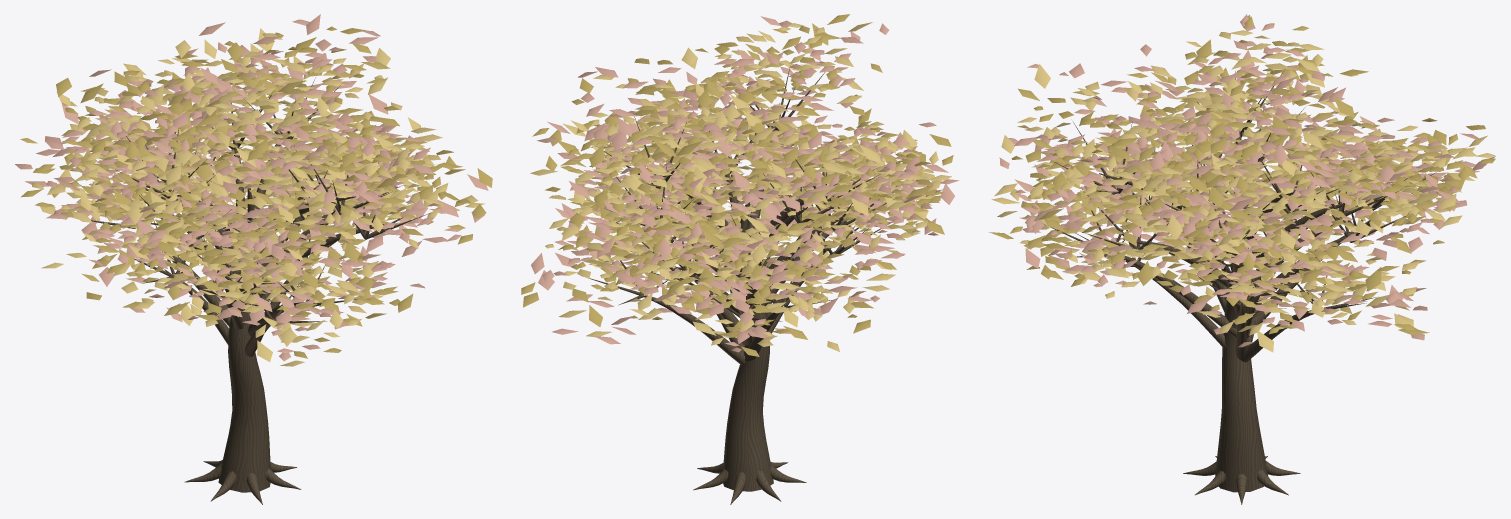
The model's file is blossom_tree.glb.
3 views of the same model, side by side, from view 1: azimuth 30°, elevation 25°; view 2: azimuth 150°, elevation 25°; view 3: azimuth 270°, elevation 25° (orthographic). The views are drawn at different scales.
Parts seen in each view (by area): view 1: Tree_leaf_light, Tree_leaf_pink, Tree_leaf_gold, Tree_bark; view 2: Tree_leaf_pink, Tree_leaf_light, Tree_leaf_gold, Tree_bark; view 3: Tree_leaf_gold, Tree_leaf_pink, Tree_leaf_light, Tree_bark.
Part boxes in pixels (x1=…): Tree_leaf_light: x1=32, y1=28, x2=485, y2=366; Tree_leaf_pink: x1=15, y1=14, x2=488, y2=361; Tree_leaf_gold: x1=20, y1=26, x2=492, y2=358; Tree_bark: x1=78, y1=77, x2=428, y2=504; Tree_leaf_pink: x1=531, y1=16, x2=959, y2=352; Tree_leaf_light: x1=530, y1=22, x2=951, y2=351; Tree_leaf_gold: x1=521, y1=14, x2=953, y2=356; Tree_bark: x1=582, y1=66, x2=895, y2=504; Tree_leaf_gold: x1=989, y1=15, x2=1495, y2=334; Tree_leaf_pink: x1=999, y1=14, x2=1495, y2=347; Tree_leaf_light: x1=991, y1=30, x2=1495, y2=352; Tree_bark: x1=1044, y1=70, x2=1436, y2=504.
Bounding box in the file's own units: 5.73 × 6.15 × 7.
4 materials, 1 textured.
